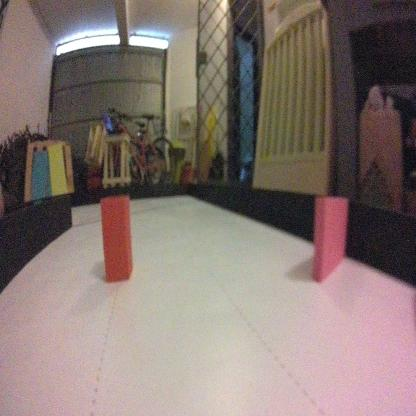magenta: (312, 194, 346, 285)
red: (99, 186, 134, 284)
